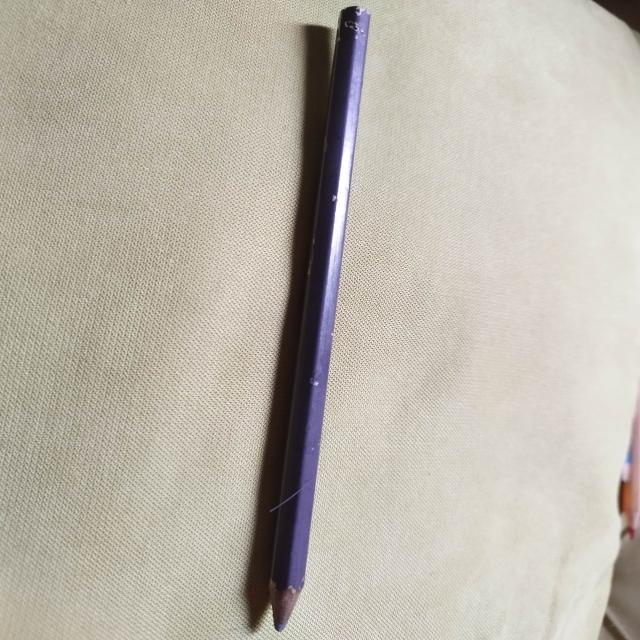pencil: (268, 5, 370, 632)
